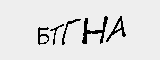А: (106, 14, 127, 46)
Б: (36, 27, 49, 46)
Г: (61, 16, 81, 44)
Н: (82, 13, 108, 44)
Т: (50, 23, 63, 45)
